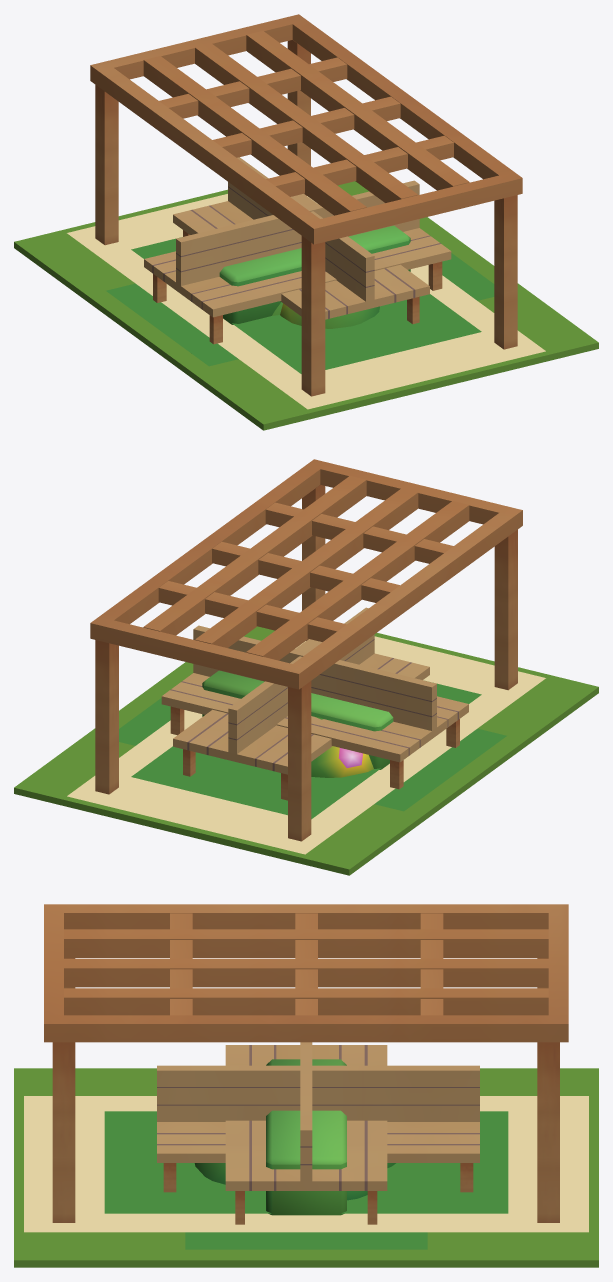
Rendered from Ferries_Wheel_Side_Garden_Area.fbx.
The picture shows the model from 3 angles, top to bottom: view 1: azimuth 30°, elevation 25°; view 2: azimuth 150°, elevation 25°; view 3: azimuth 270°, elevation 25°; orthographic projection. The views are drawn at different scales.
Visible parts, largest first — view 1: FW_Pargola_Seating, FW_Grass_Patch, FW_Open_Seating, FW_Planter_01, FW_Bushes_01; view 2: FW_Pargola_Seating, FW_Grass_Patch, FW_Open_Seating, FW_Planter_01, FW_Bushes_01; view 3: FW_Pargola_Seating, FW_Grass_Patch, FW_Open_Seating, FW_Planter_01, FW_Bushes_01.
Boxes of the visible parts, left/top/right/bottom form: FW_Pargola_Seating: left=67, top=14, right=545, bottom=409; FW_Grass_Patch: left=14, top=181, right=598, bottom=430; FW_Open_Seating: left=106, top=180, right=494, bottom=366; FW_Planter_01: left=219, top=225, right=410, bottom=324; FW_Bushes_01: left=272, top=302, right=379, bottom=328; FW_Pargola_Seating: left=67, top=459, right=545, bottom=854; FW_Grass_Patch: left=14, top=626, right=598, bottom=875; FW_Open_Seating: left=119, top=625, right=506, bottom=811; FW_Planter_01: left=202, top=670, right=393, bottom=769; FW_Bushes_01: left=311, top=717, right=373, bottom=777; FW_Pargola_Seating: left=24, top=904, right=588, bottom=1232; FW_Grass_Patch: left=14, top=1068, right=598, bottom=1267; FW_Open_Seating: left=185, top=1042, right=427, bottom=1249; FW_Planter_01: left=266, top=1059, right=346, bottom=1215; FW_Bushes_01: left=194, top=1163, right=395, bottom=1200.
Size of the model in its own units: 1.29 by 0.6498 by 1.66.
